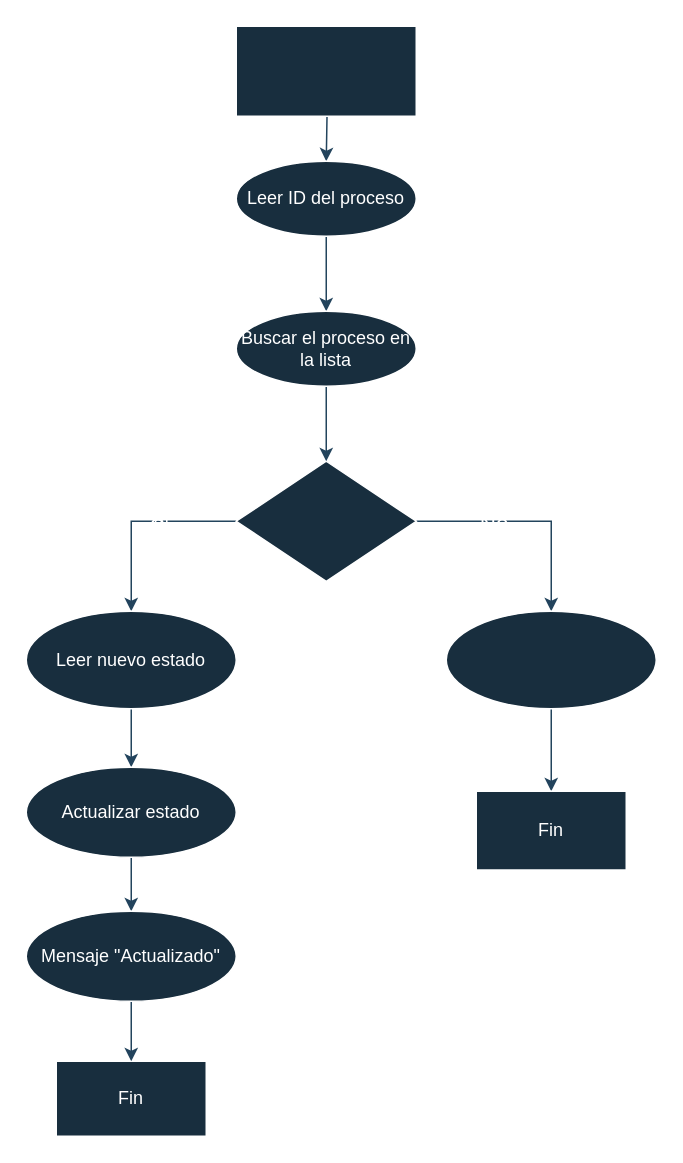
This 683x1163 diagram has some shape labels left out. The centre of each missing label's shape, as x and y in pixels:
Inicio: [325,70]
Mensaje "No encontrado": [550,659]
¿Proceso encontrado?: [325,520]
